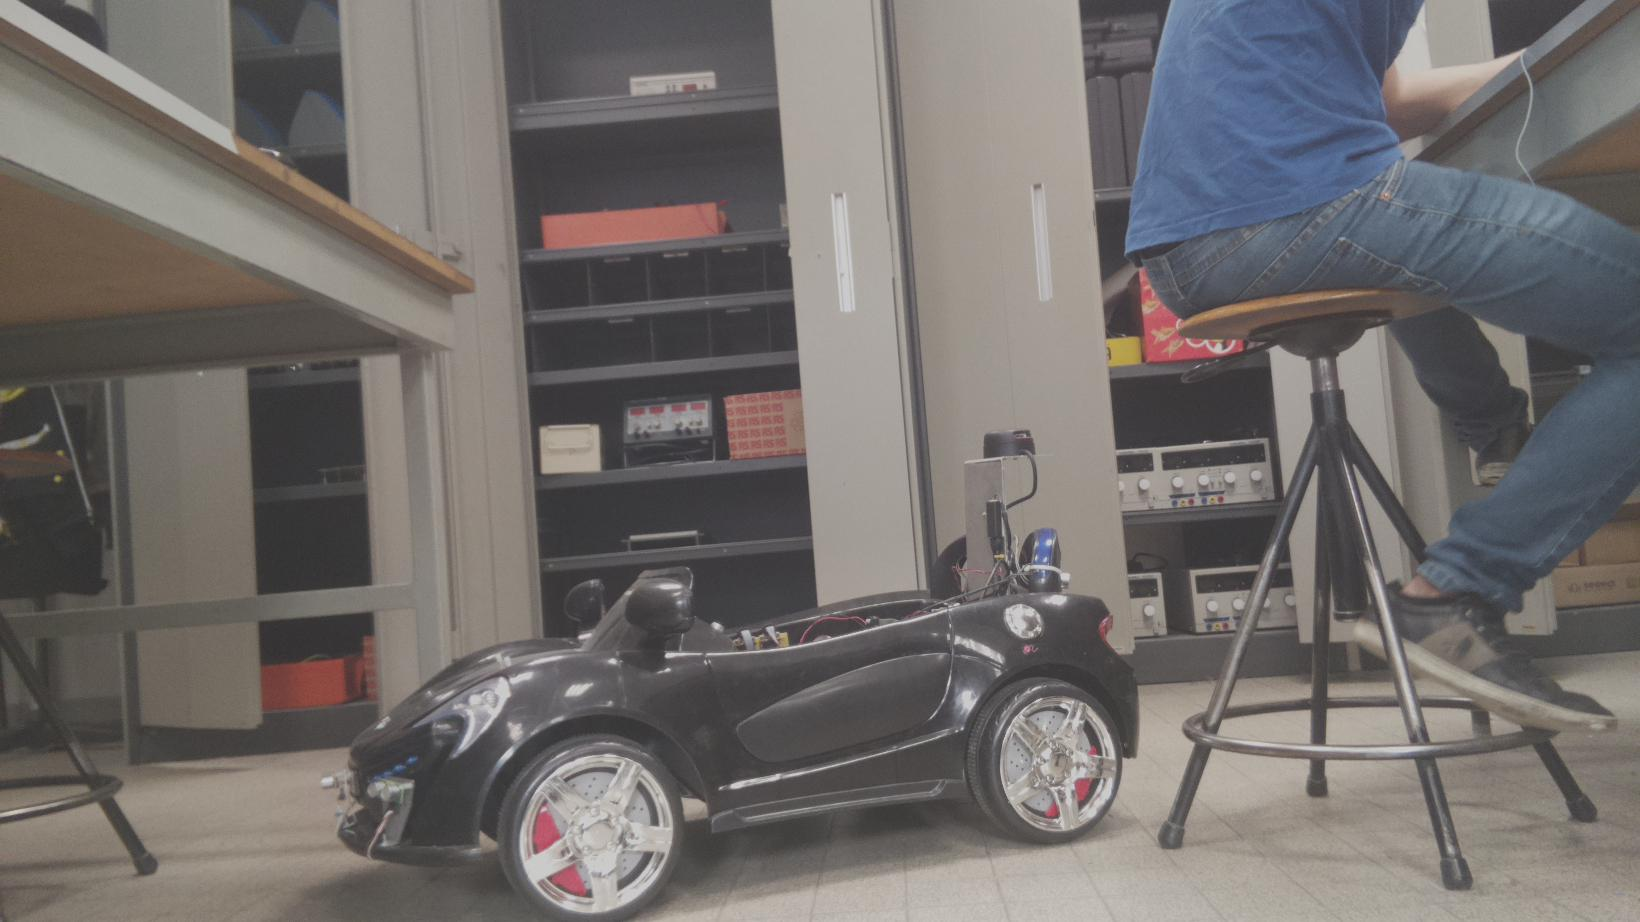big: (317, 426, 1140, 914)
